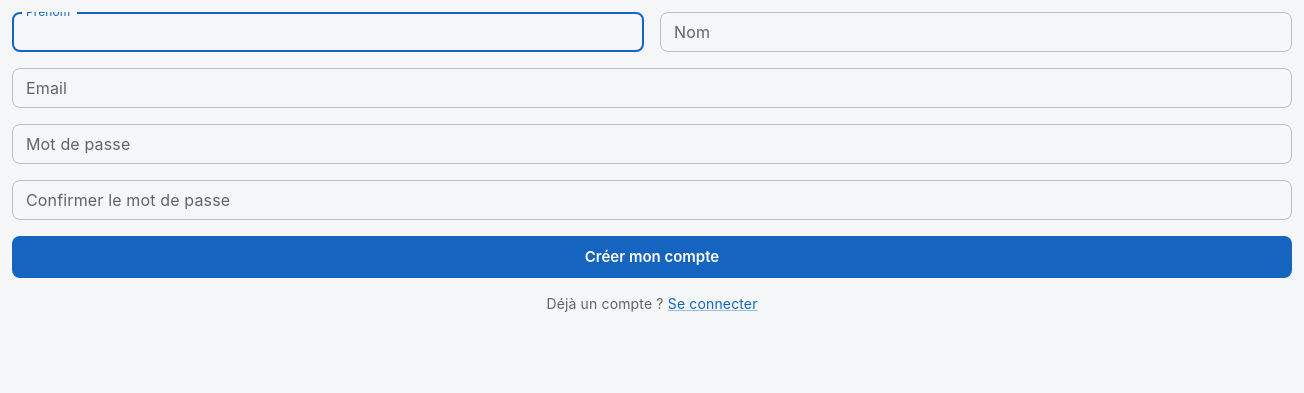
Test: RegisterForm › displays the API error message when registration fails
The width and height of the screenshot is (1304, 393).
Type "Alex" into the field labelled "Prénom" at (328, 32), box x1=12 y1=12 x2=644 y2=52
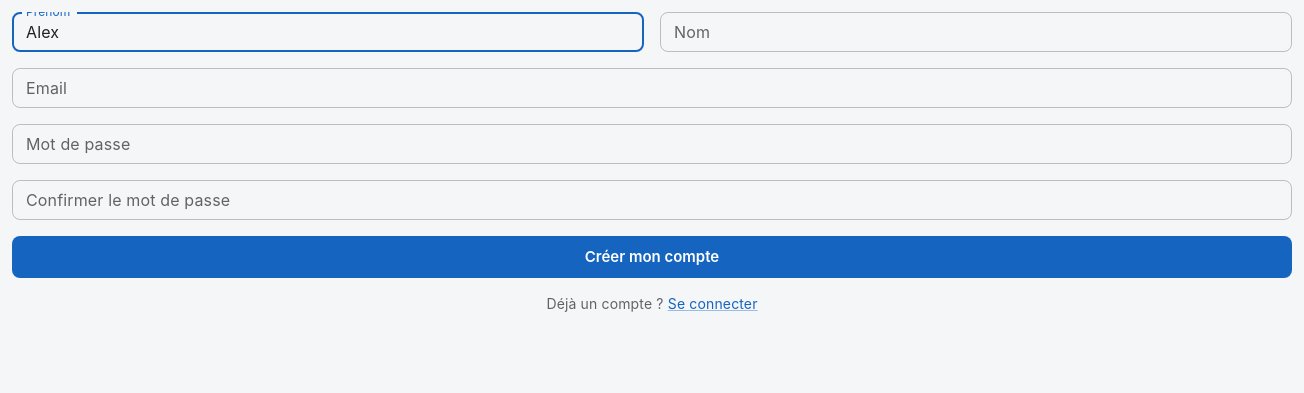
Type "Martin" into the field labelled "Nom" at (976, 32), box x1=660 y1=12 x2=1292 y2=52
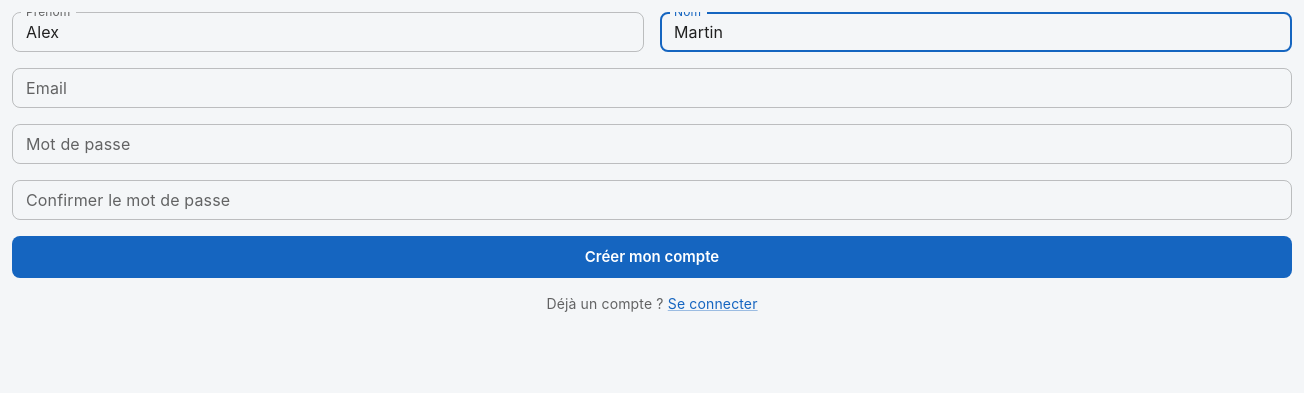
Type "alex@iam.ma" into the field labelled "Email" at (652, 88), box x1=12 y1=68 x2=1292 y2=108
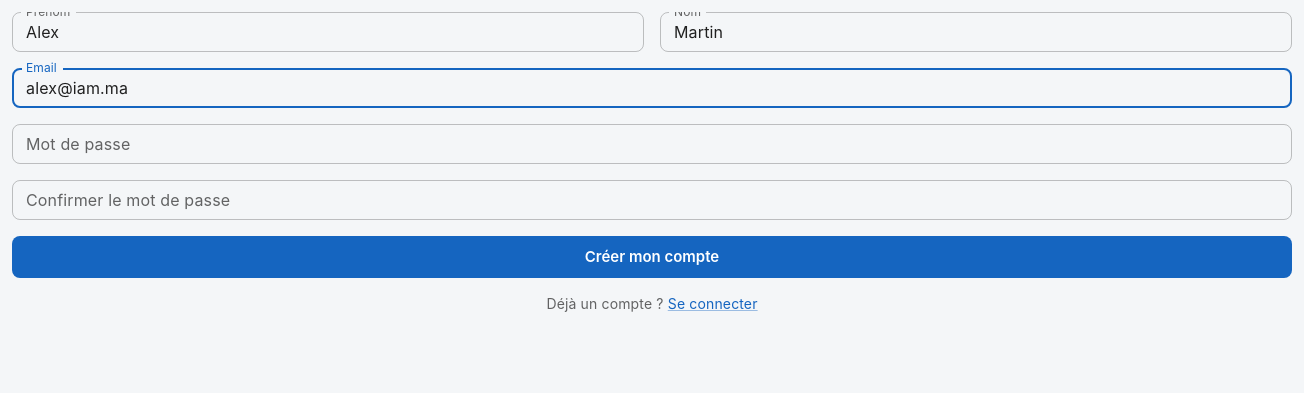
Type "ValidPassword123" into the password field labelled "Mot de passe" at (652, 144), box x1=12 y1=124 x2=1292 y2=164
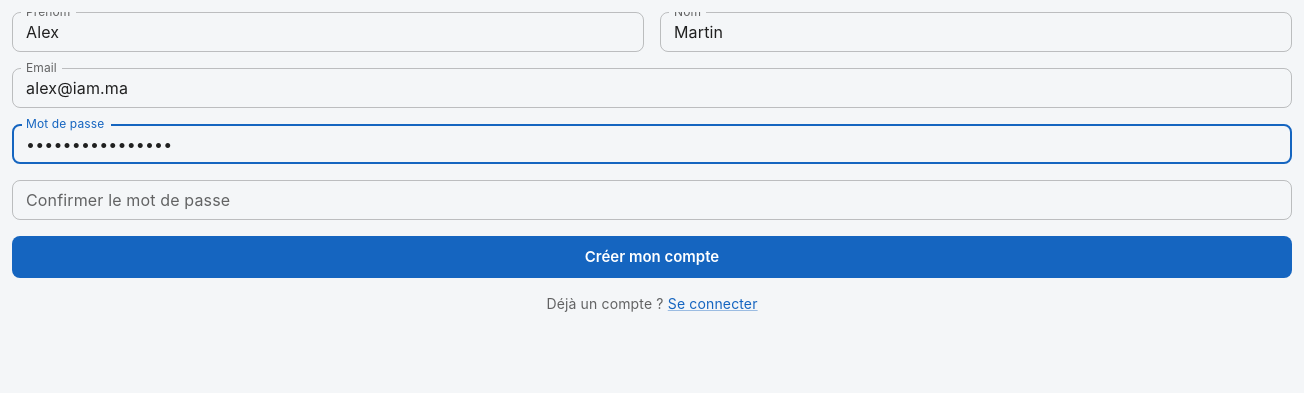
Type "ValidPassword123" into the password field labelled "Confirmer le mot de passe" at (652, 200), box x1=12 y1=180 x2=1292 y2=220
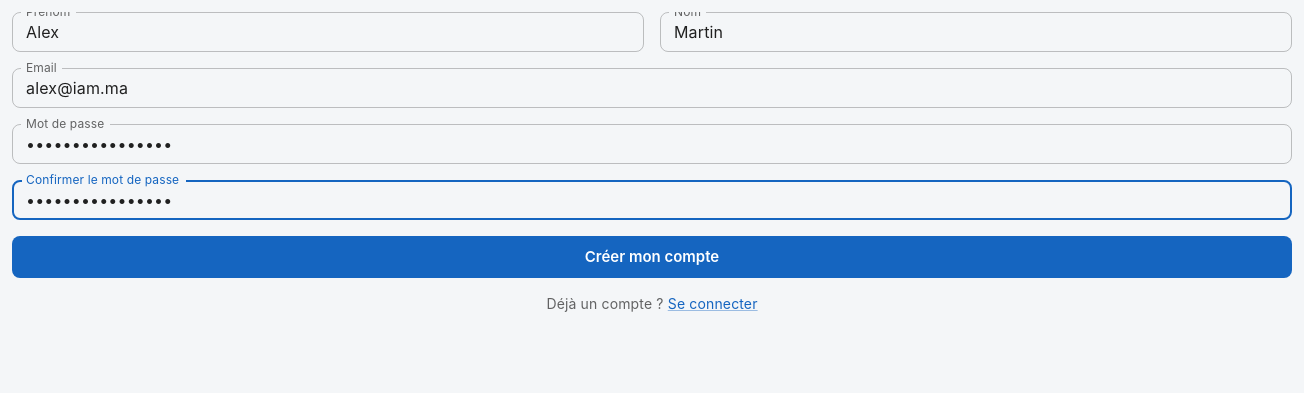
Click the button "Créer mon compte" at (652, 257), box x1=12 y1=236 x2=1292 y2=278
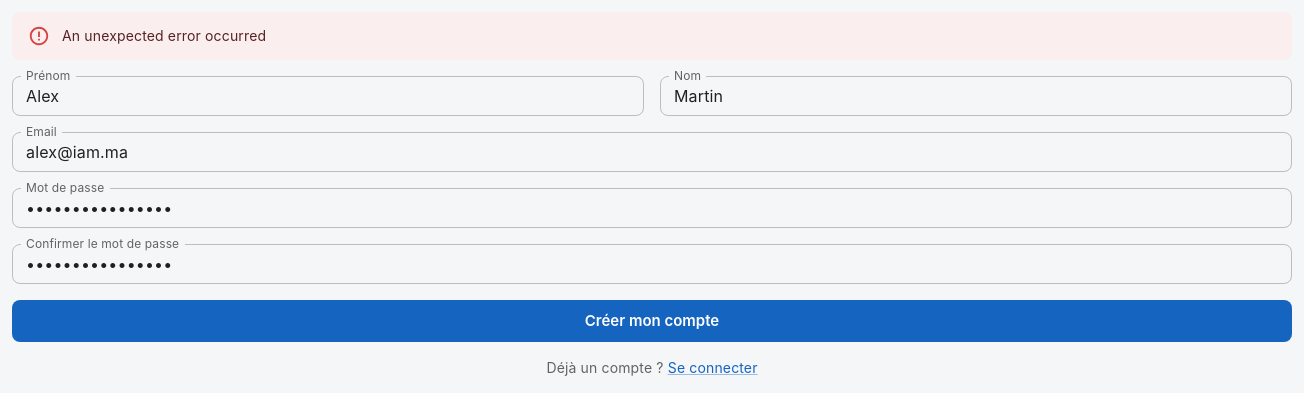
Expected: the text "An unexpected error occurred" is shown, x1=62 y1=27 x2=266 y2=44
